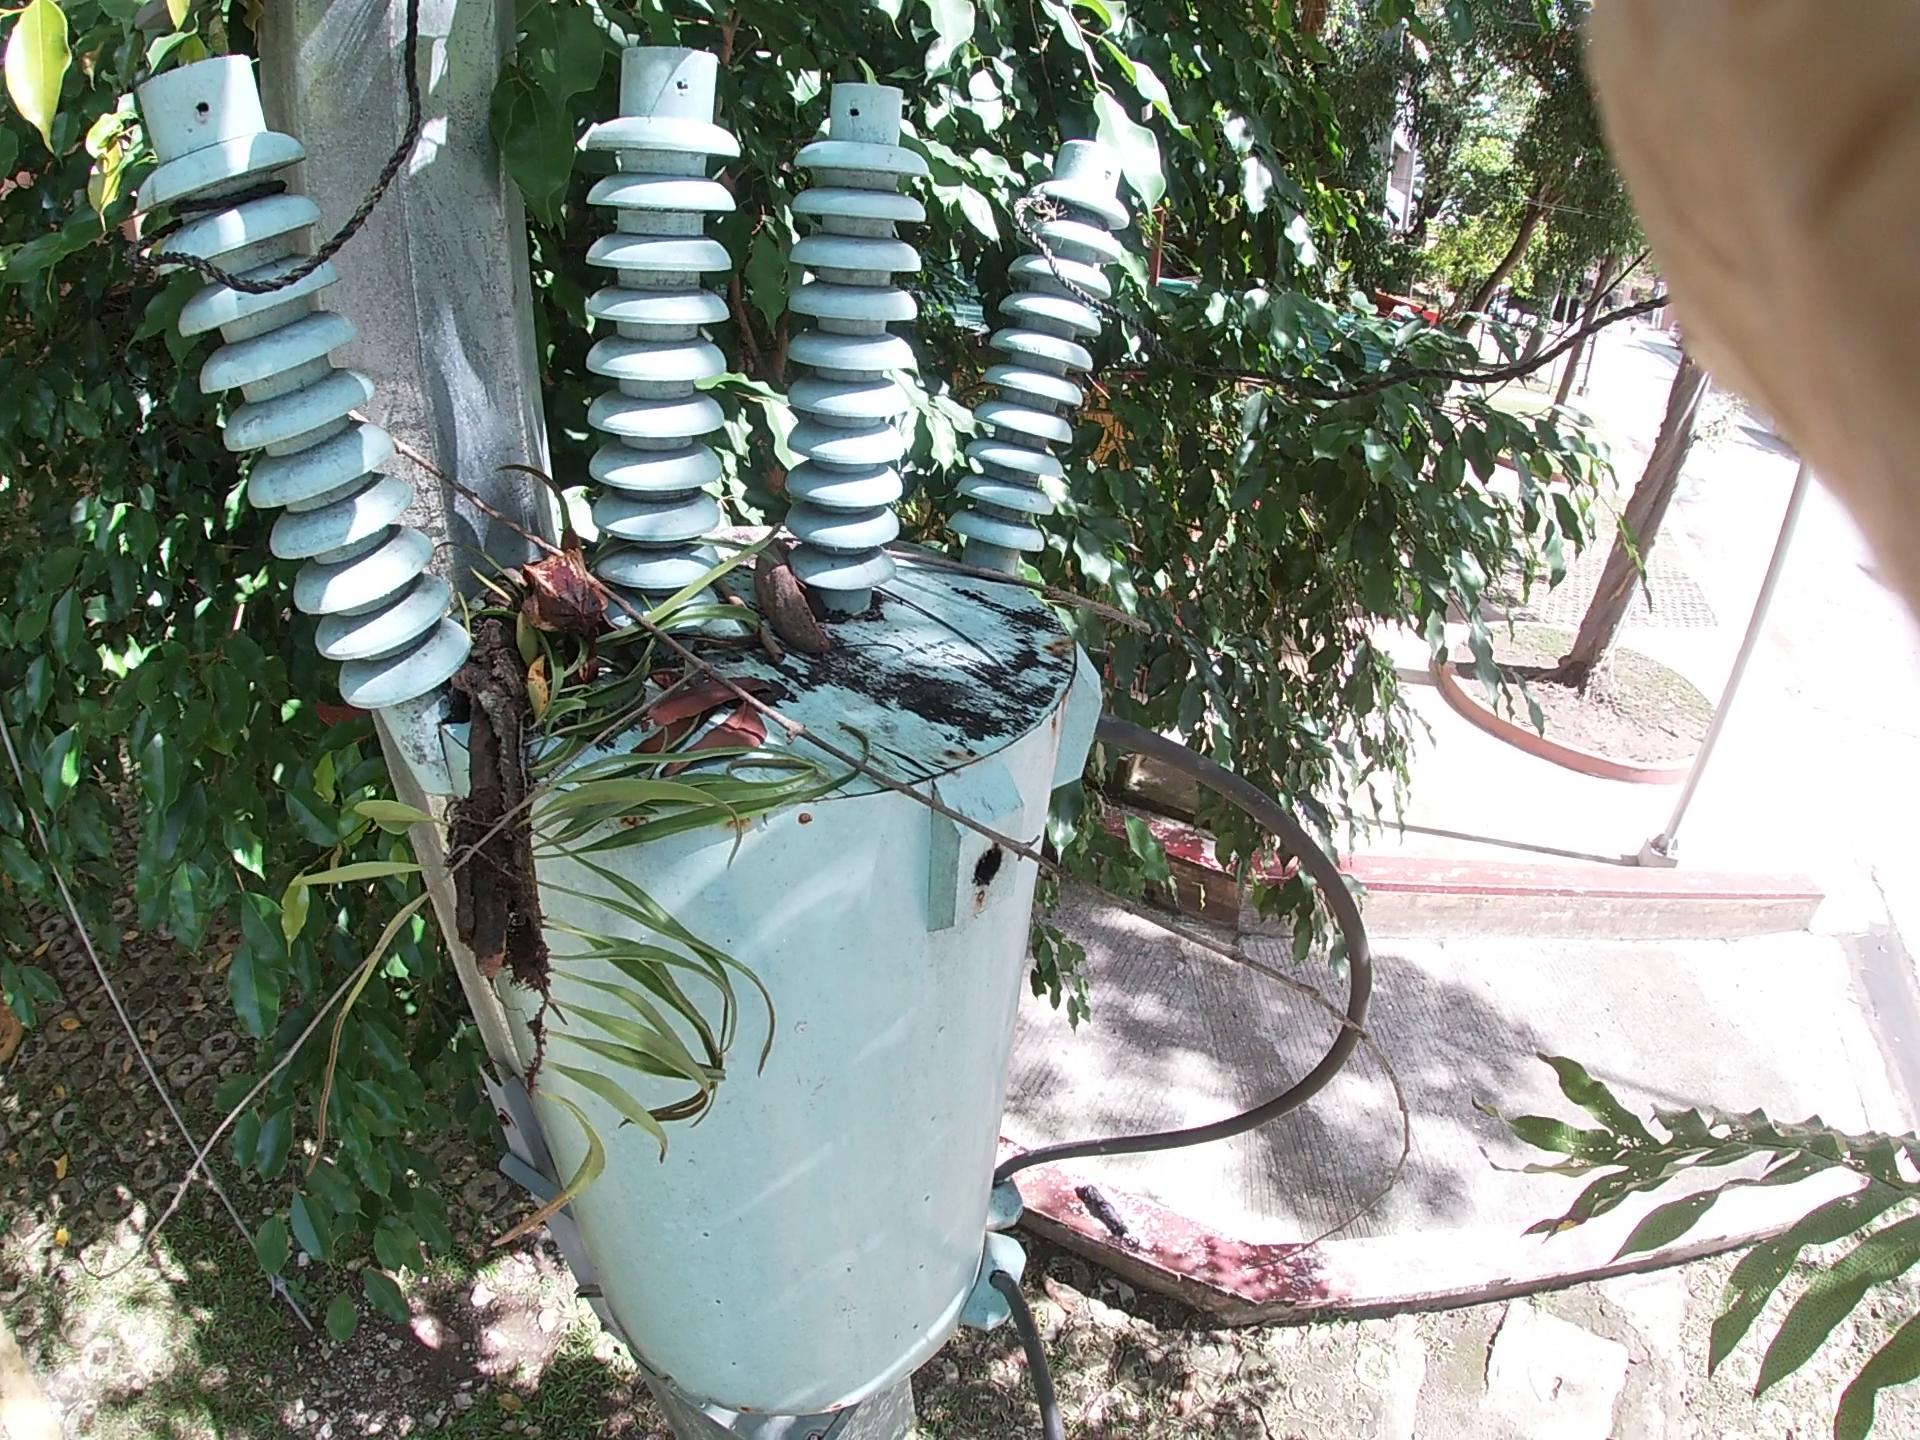branch with leaves: (414, 469, 633, 1221)
leaf: (257, 33, 1432, 486)
mahogany fruit: (726, 484, 859, 744), (500, 507, 618, 693)
tree branch: (348, 414, 1352, 1062), (819, 514, 1240, 650), (688, 537, 853, 744)
